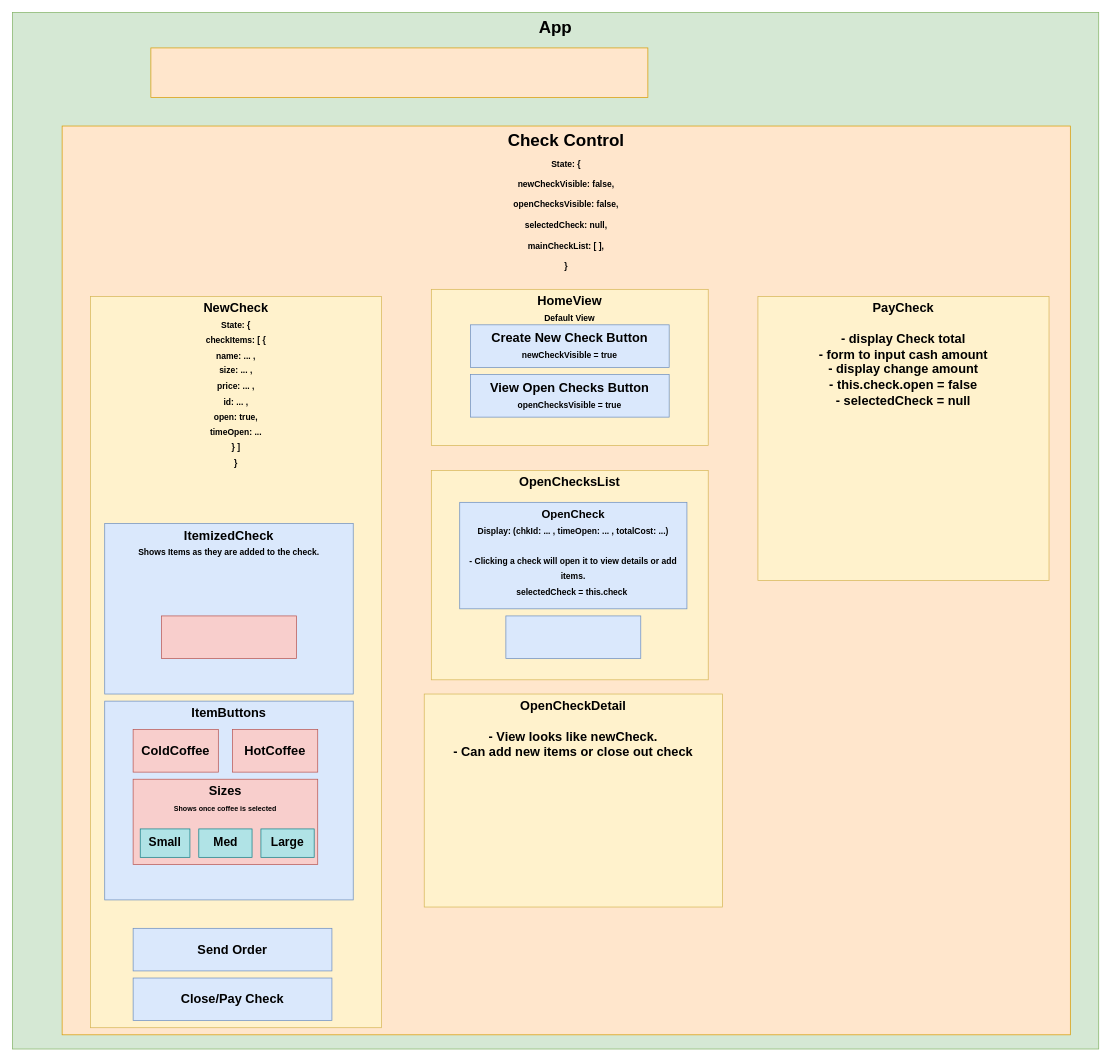
Image size: 1111x1061. Some labels were removed from this diagram. The centre of each missing label's shape, as x and y in pixels:
"Header" belongs at point 399,72.
"OpenCheck" belongs at point 573,637.
"TotalPrice" belongs at point 228,637.
